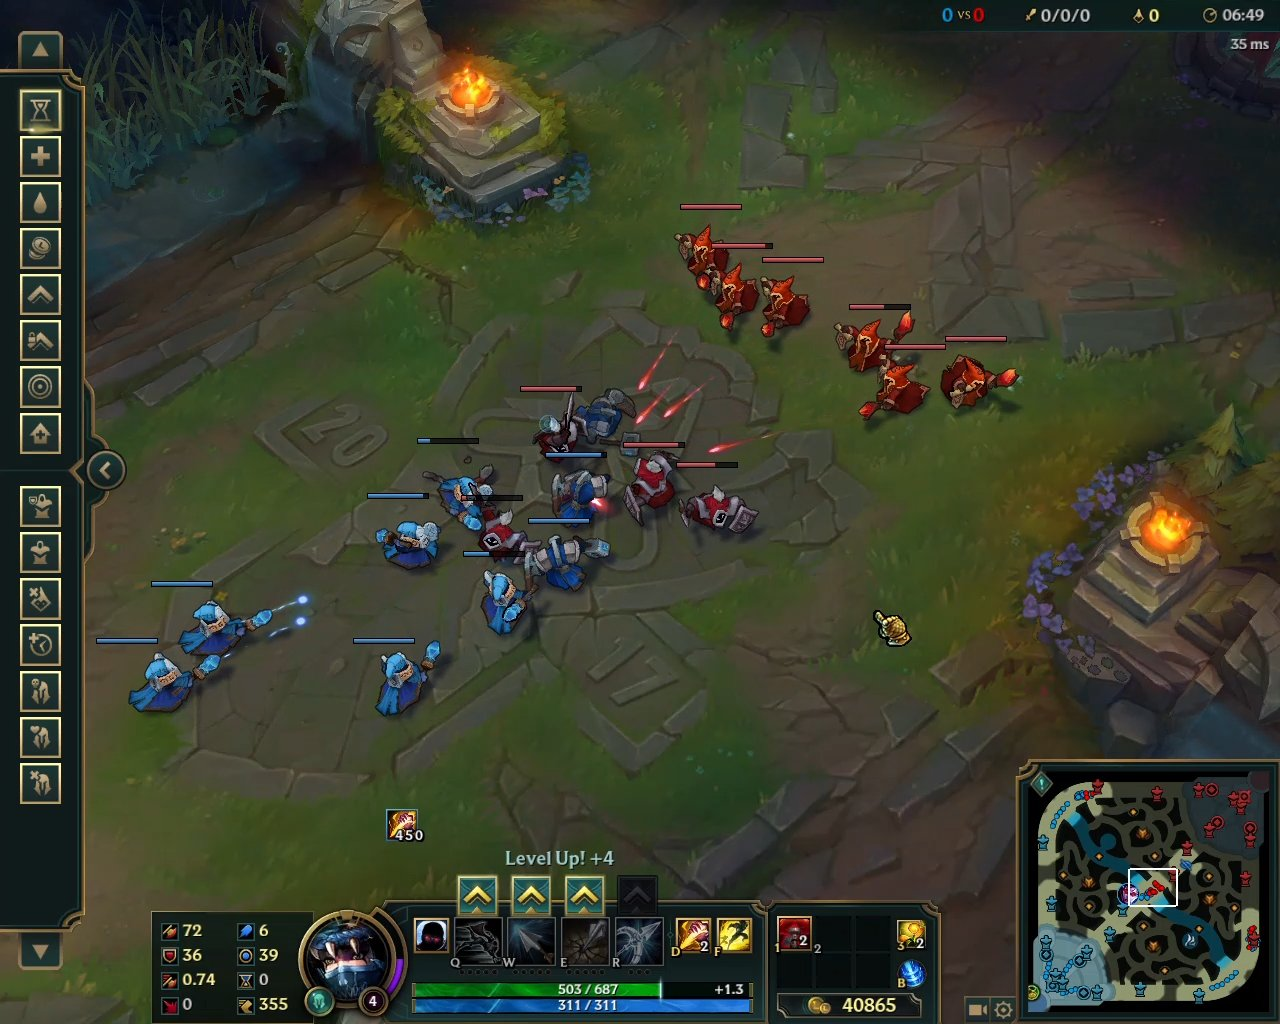EnemyMinion: (850, 341, 946, 427), (934, 335, 1024, 416), (671, 202, 743, 293), (703, 243, 774, 333), (832, 303, 918, 376), (677, 461, 758, 538), (619, 438, 688, 528), (517, 383, 594, 464), (755, 257, 824, 342), (460, 494, 542, 563)
